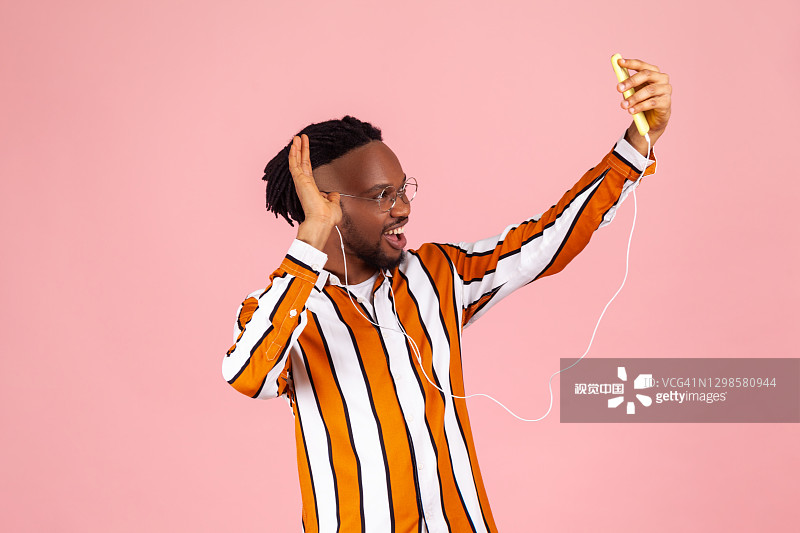no-phone: (276, 125, 356, 243)
taking photos: (585, 43, 682, 160)
